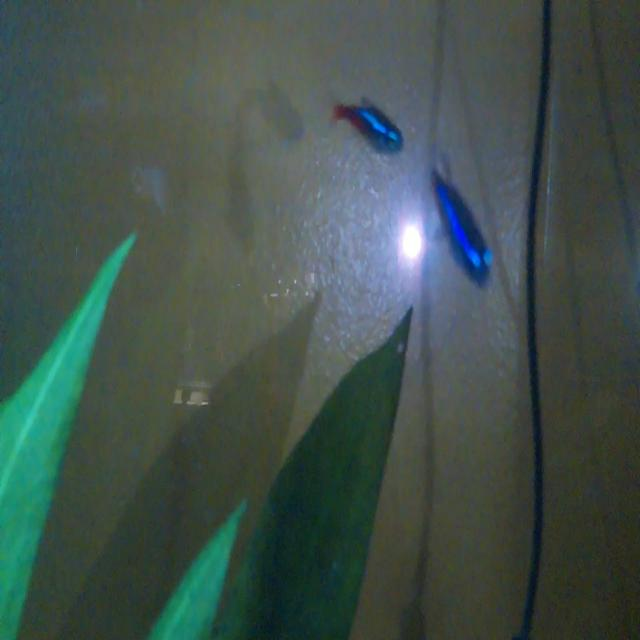fish: (422, 161, 504, 292), (334, 90, 405, 163)
